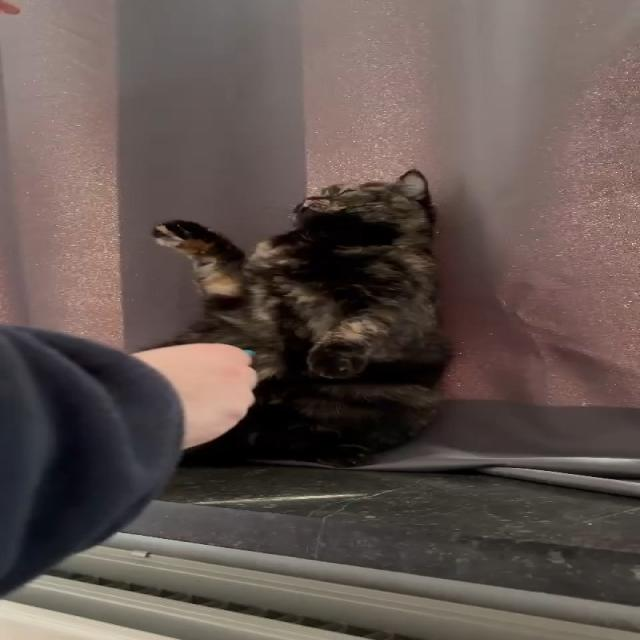authorized: (144, 167, 455, 468)
